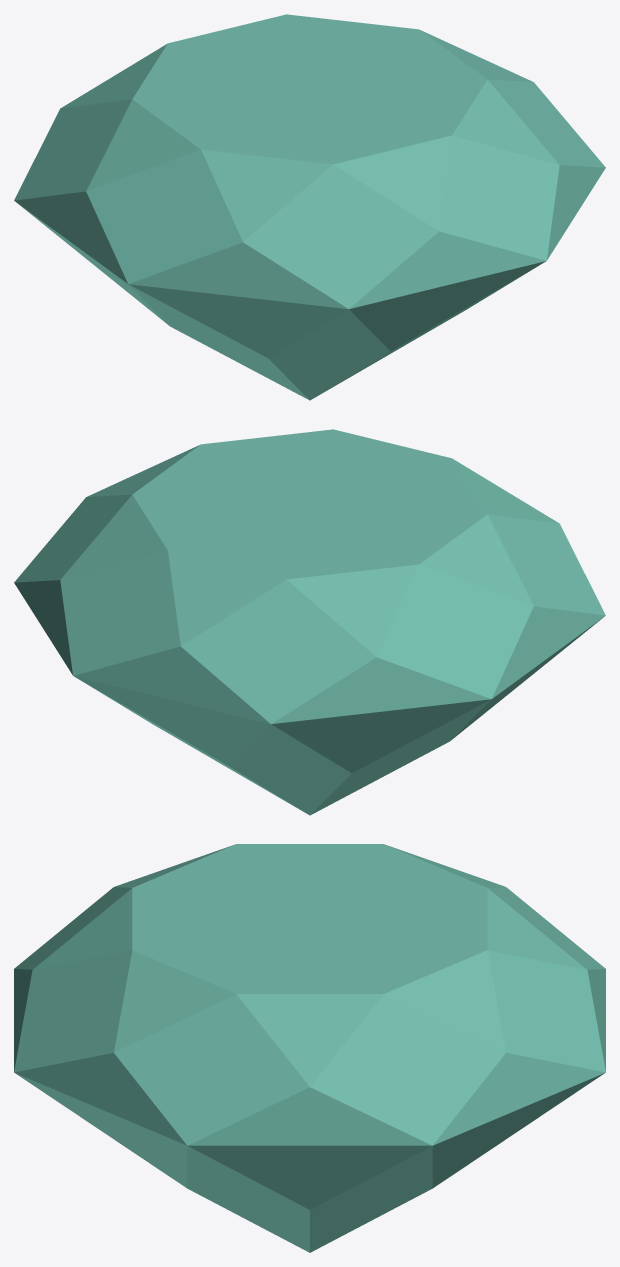
File: diamond.glb
The picture shows the model from 3 angles, top to bottom: view 1: azimuth 30°, elevation 25°; view 2: azimuth 150°, elevation 25°; view 3: azimuth 270°, elevation 25°; orthographic projection. The views are drawn at different scales.
Parts seen in each view (by area): view 1: Cube; view 2: Cube; view 3: Cube.
Boxes of the visible parts, x1,y1,x2,y2 form: Cube: (14, 14, 605, 400); Cube: (14, 429, 605, 815); Cube: (14, 844, 605, 1252).
Size of the model in its own units: 1.85 by 1.15 by 1.85.
